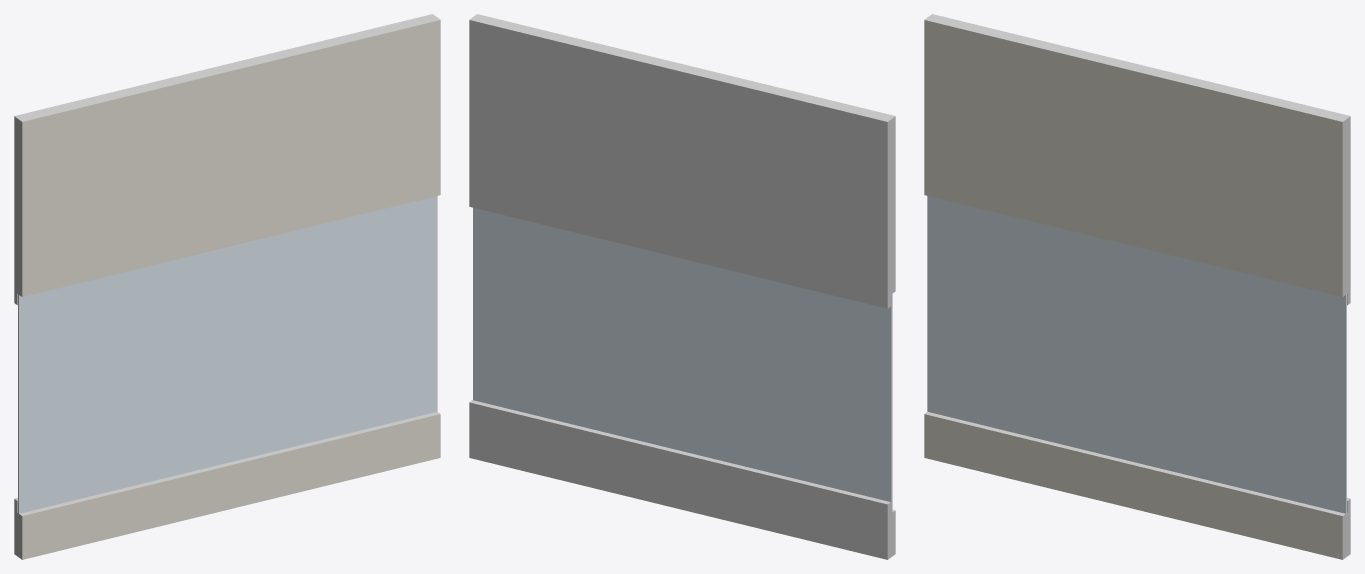
Rendered from ShopGlass_Full.fbx.
3 renders of one model, left to right at view 1: azimuth 30°, elevation 25°; view 2: azimuth 150°, elevation 25°; view 3: azimuth 330°, elevation 25°, orthographic.
Visible parts, largest first — view 1: SM_ShopGlass_Full; view 2: SM_ShopGlass_Full; view 3: SM_ShopGlass_Full.
Boxes of the visible parts, left/top/right/bottom form: SM_ShopGlass_Full: left=14, top=14, right=440, bottom=559; SM_ShopGlass_Full: left=469, top=14, right=895, bottom=559; SM_ShopGlass_Full: left=924, top=14, right=1350, bottom=559.
Bounding box in the file's own units: 3 × 3 × 0.1.
